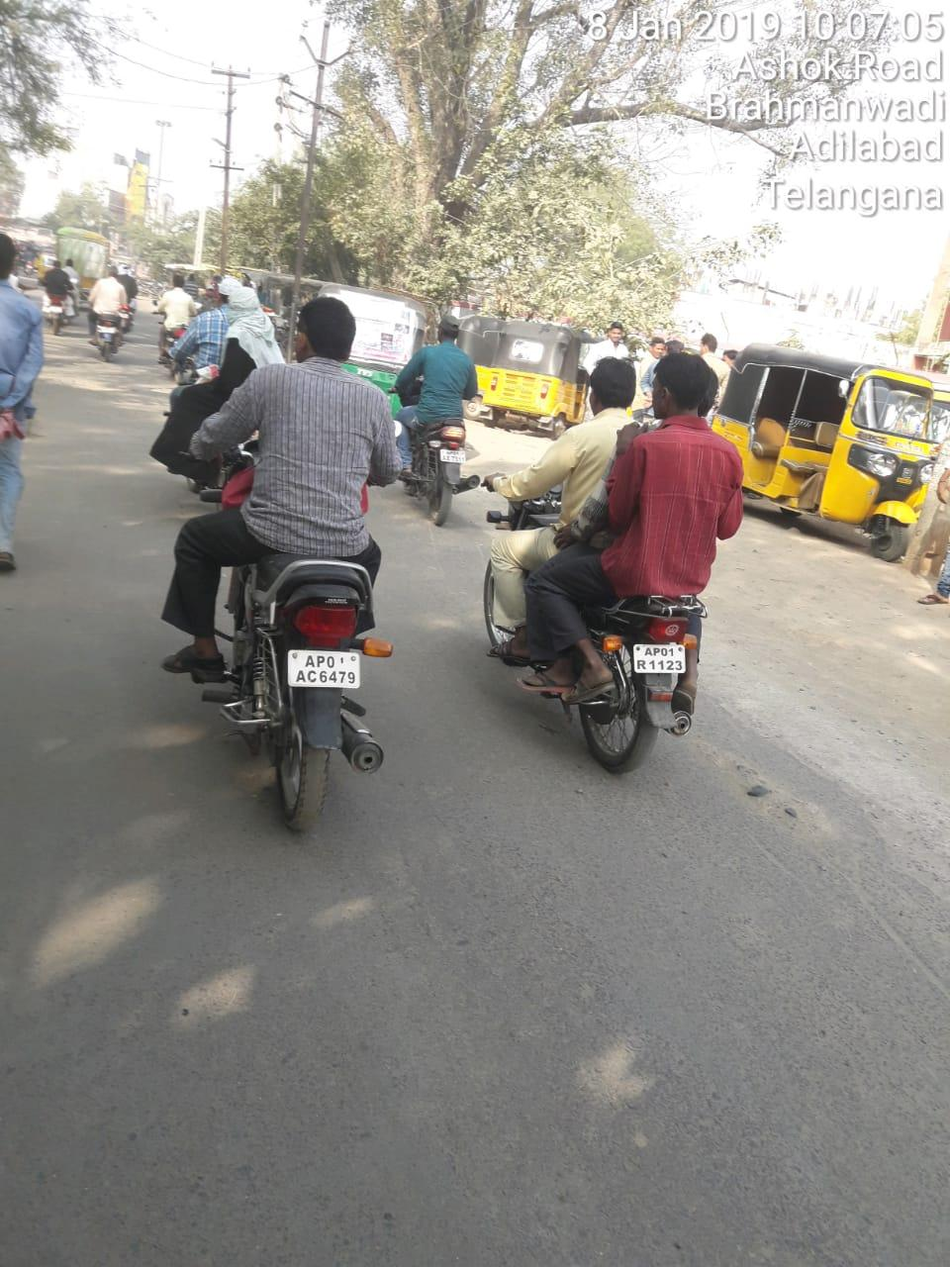plate: (286, 646, 366, 691), (631, 642, 690, 679), (429, 444, 474, 469)
